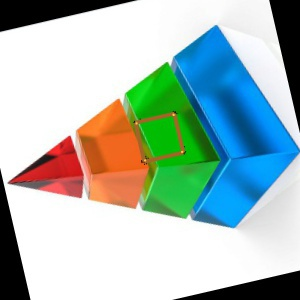square: (132, 111, 187, 164)
